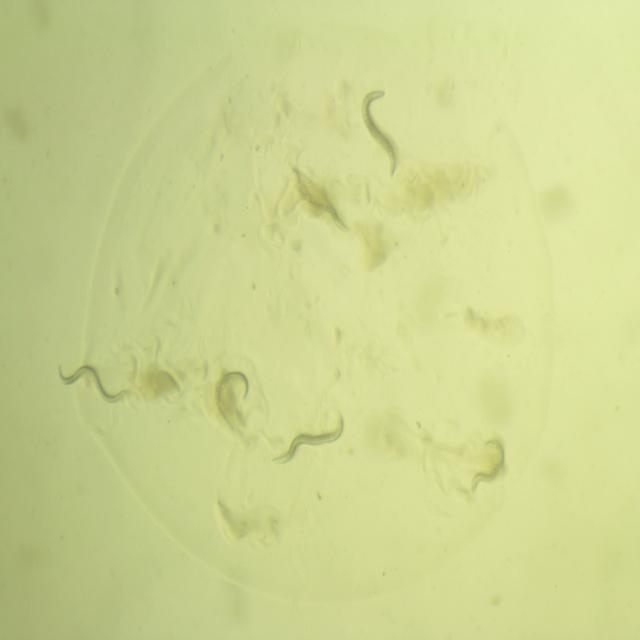worm: (352, 68, 411, 186), (284, 153, 356, 244), (265, 400, 350, 476), (52, 352, 138, 412), (460, 416, 520, 501), (207, 351, 261, 444)
